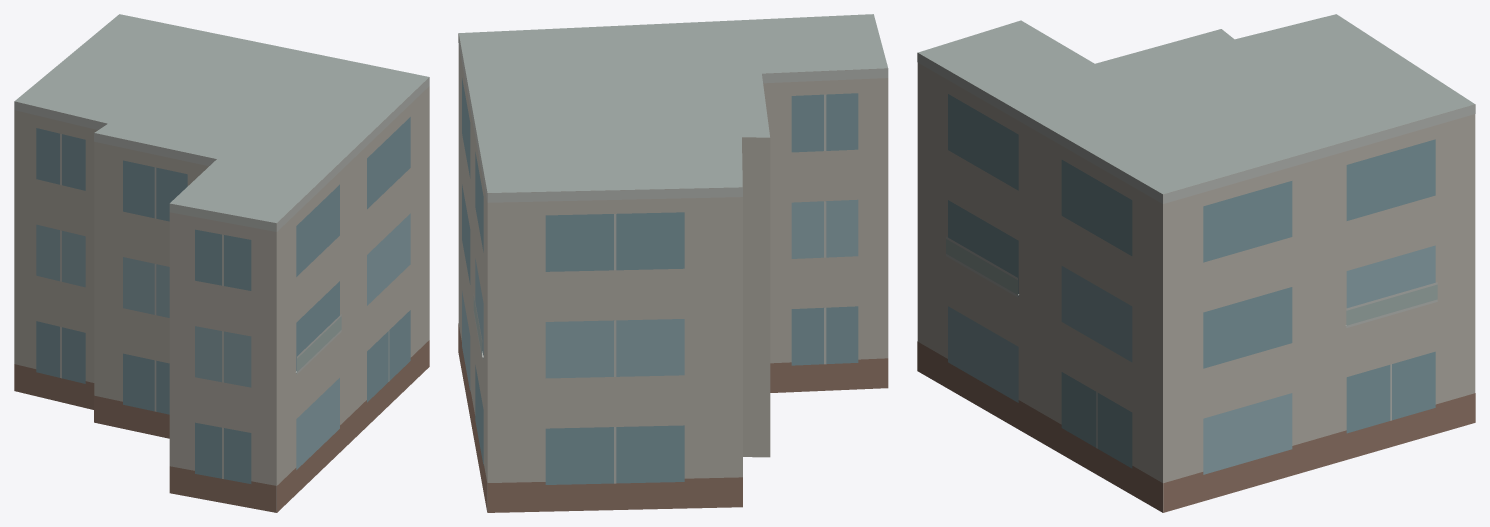
File: survey-upis-32886124.glb
3 renders of one model, left to right at view 1: azimuth 30°, elevation 25°; view 2: azimuth 150°, elevation 25°; view 3: azimuth 270°, elevation 25°, orthographic. The views are drawn at different scales.
Visible parts, largest first — view 1: survey-upis-32886124.tmp; view 2: survey-upis-32886124.tmp; view 3: survey-upis-32886124.tmp.
Boxes of the visible parts, x1,y1,x2,y2 form: survey-upis-32886124.tmp: [14, 14, 429, 512]; survey-upis-32886124.tmp: [458, 14, 888, 512]; survey-upis-32886124.tmp: [917, 14, 1475, 512].
Size of the model in its own units: 9.73 by 8 by 12.71.
